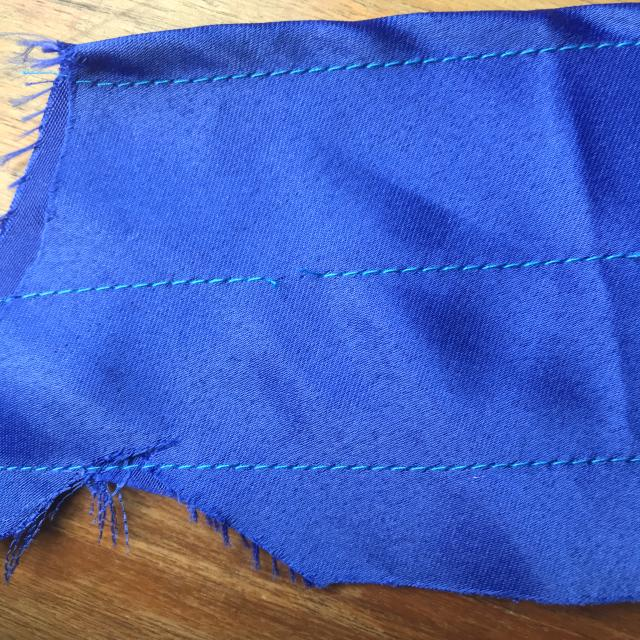broken: (246, 259, 335, 303)
good: (267, 50, 428, 93)
